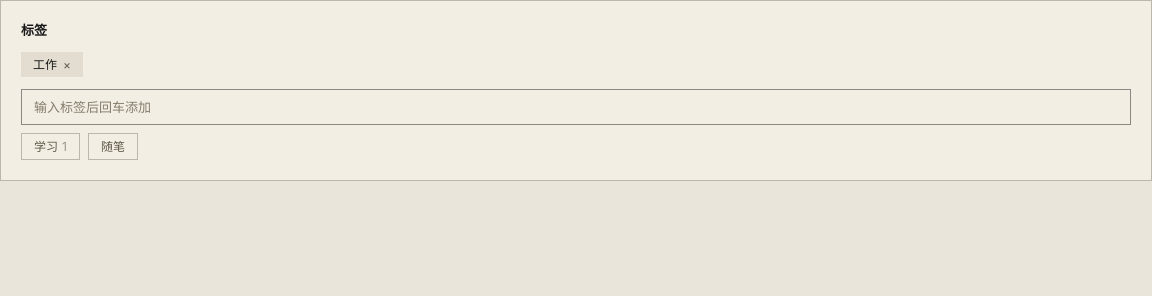
Test: KnowledgeTagEditor › adds a typed tag on enter and reports save failures
Step 1. Type "新标签" into the field with placeholder "输入标签后回车添加" → x=576, y=107, box [21,89,1131,125]
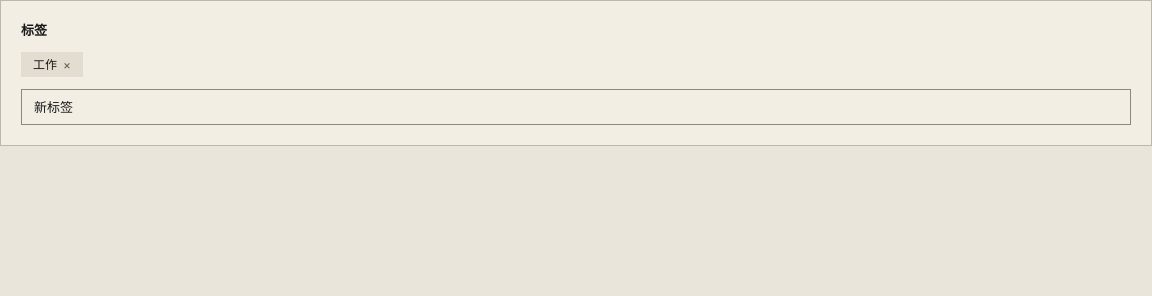
Step 2. Press Enter in the field, box [21,89,1131,125]
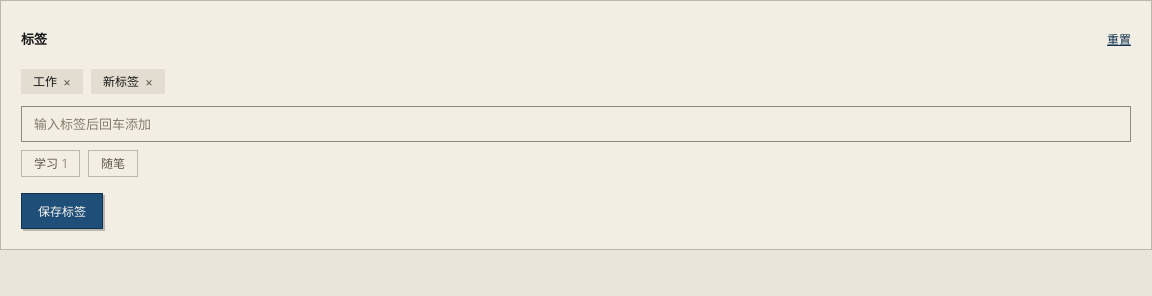
Step 3. Click the button "保存标签" → x=62, y=211, box [21,193,103,229]
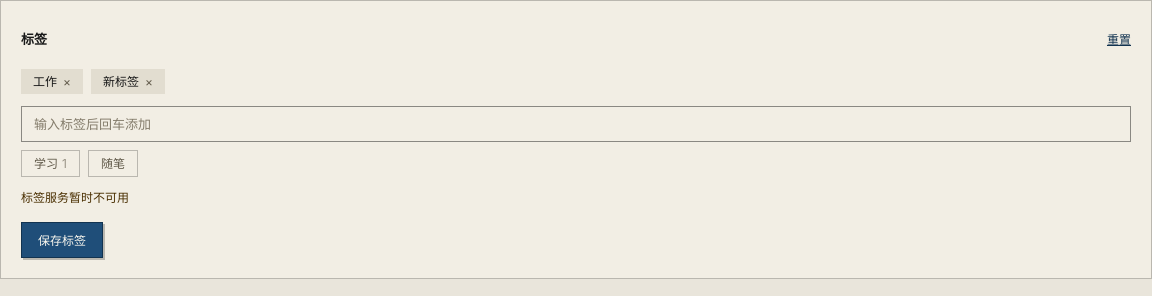
Expected: the text "标签服务暂时不可用" is shown, [21,190,129,205]
